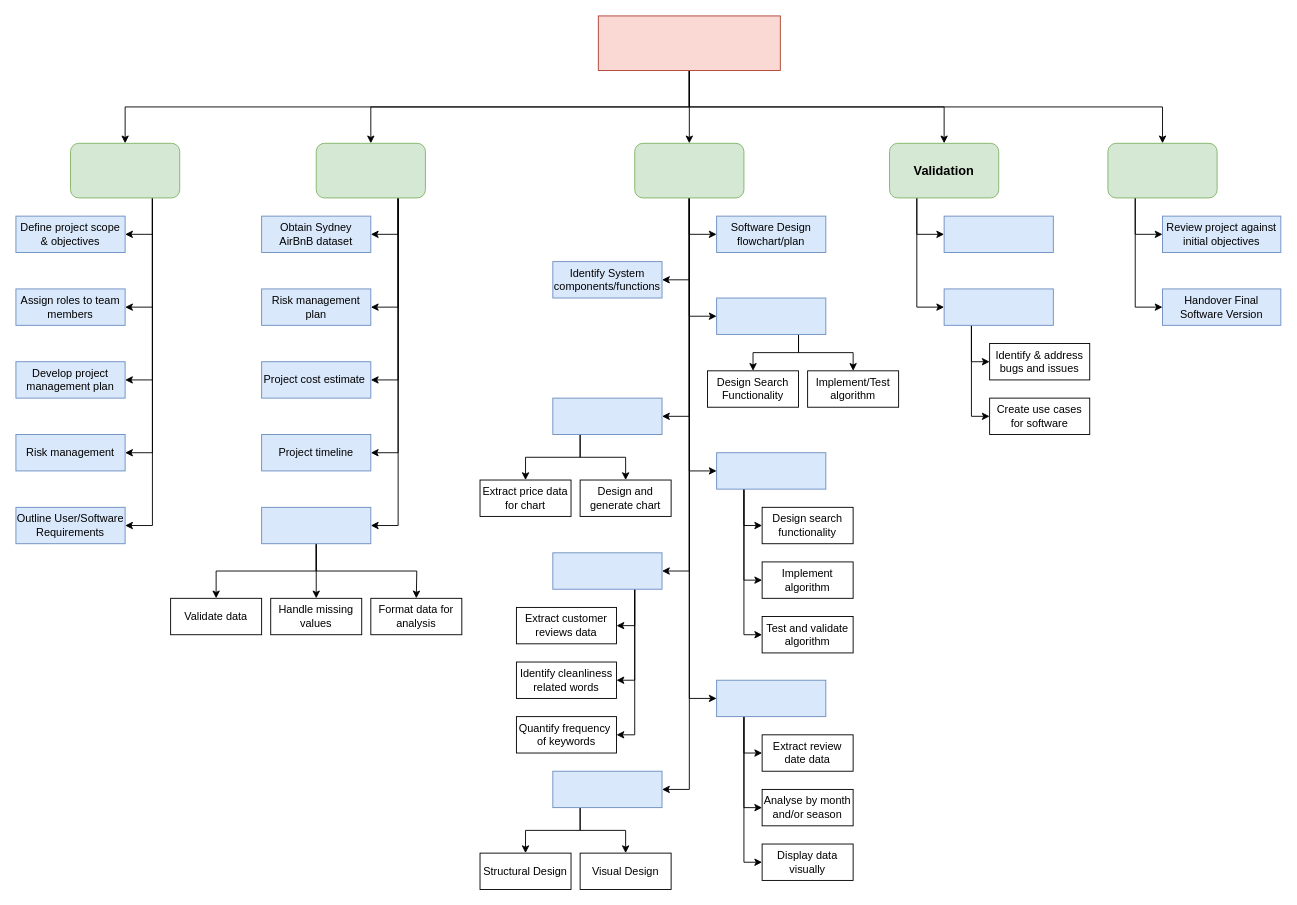
Some shapes in this 1297 by 905 pixel diagram are drawn without their labels. The shapes that lost their labels are listed below. From the top down, each one's centre as x and y in pixels, then its label:
At (x=688, y=43): "Sydney AirBnB Data Analysis Project".
At (x=125, y=170): "Initiation".
At (x=370, y=170): "Data Collection & Preparation".
At (x=689, y=170): "Creation".
At (x=1162, y=170): "Closure".
At (x=998, y=234): "Analyse insights".
At (x=771, y=315): "Suburb Specific Listing information".
At (x=998, y=306): "Test full program functionality".
At (x=607, y=416): "Price Distribution task".
At (x=771, y=470): "Keyword-based Search".
At (x=316, y=525): "Clean and preprocess the data".
At (x=607, y=570): "Cleanliness Analysis".
At (x=771, y=698): "Time Series Analysis".
At (x=607, y=789): "User interface design".
